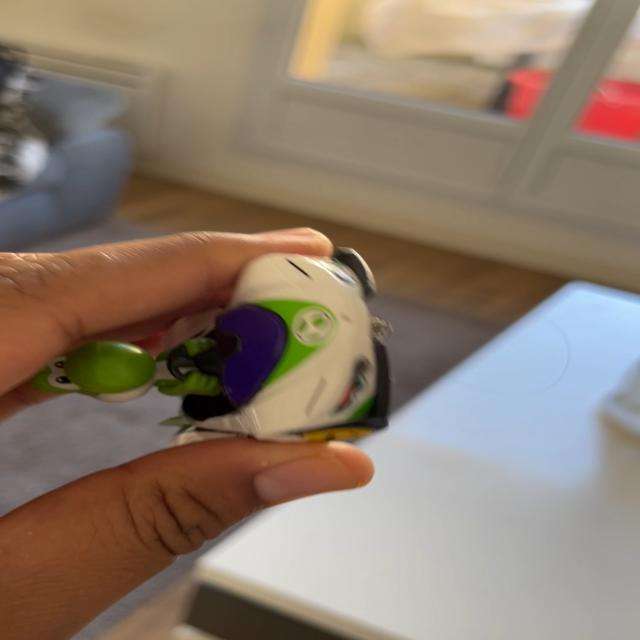yoshi: (29, 264, 404, 452)
